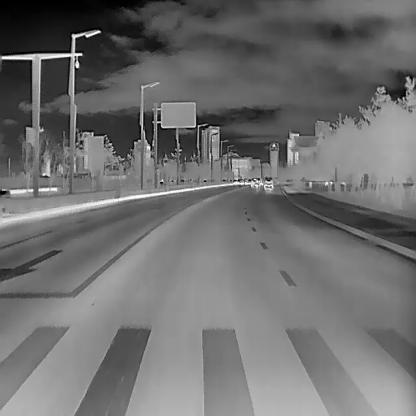car: (262, 177, 273, 190), (250, 177, 258, 187)
